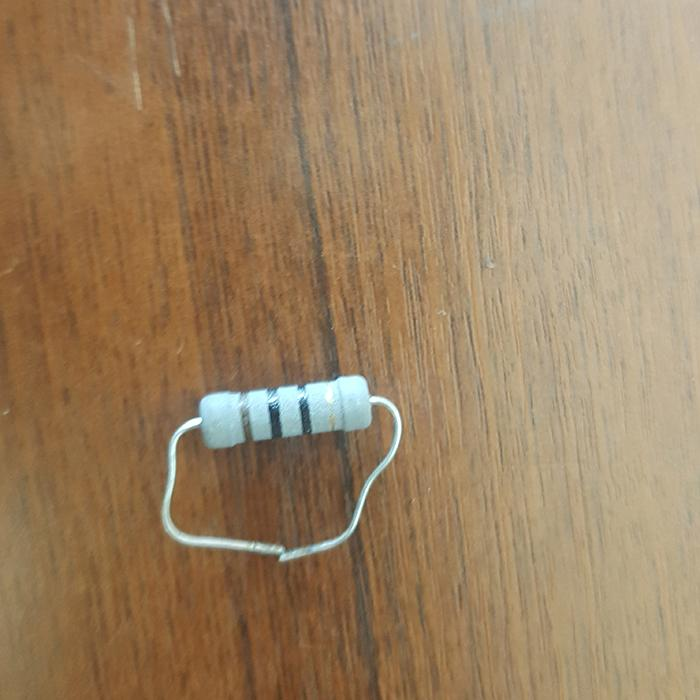resistor: (193, 372, 377, 450)
